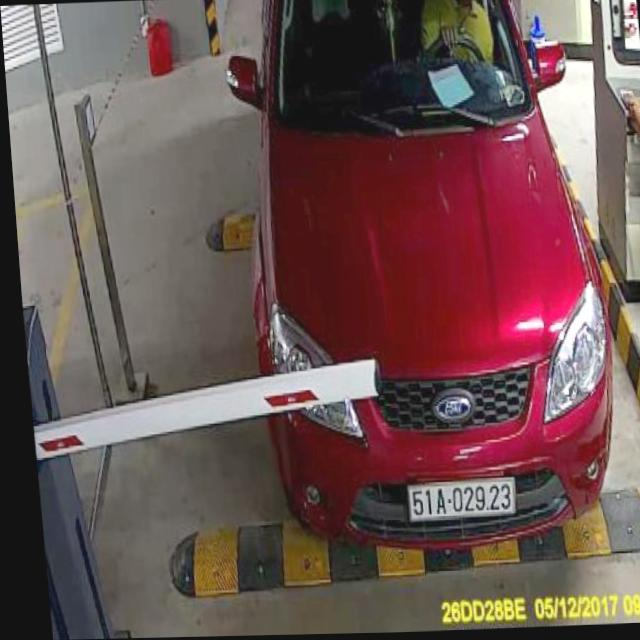car: (213, 0, 637, 553)
plate: (406, 479, 517, 519)
